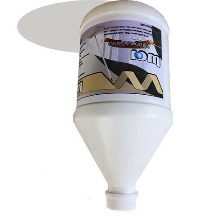cleaning_solution: (69, 0, 175, 216)
